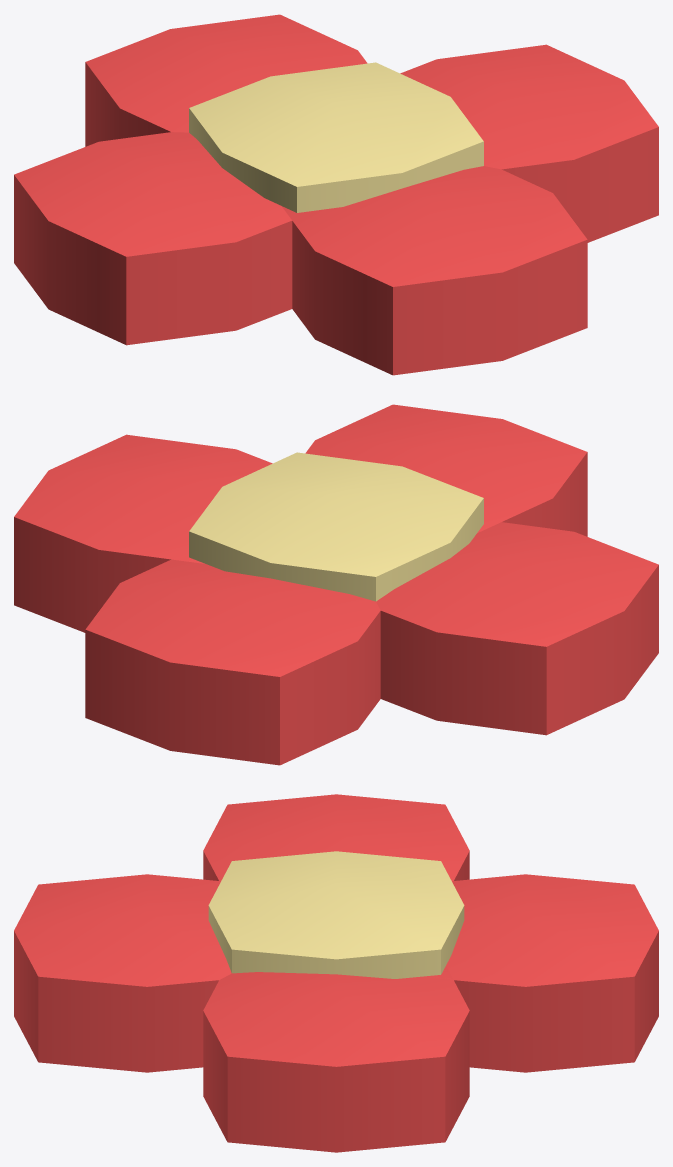
The model's file is Flower_B.fbx.
The picture shows the model from 3 angles, top to bottom: view 1: azimuth 30°, elevation 25°; view 2: azimuth 150°, elevation 25°; view 3: azimuth 270°, elevation 25°; orthographic projection. The views are drawn at different scales.
Parts seen in each view (by area): view 1: Flower_B; view 2: Flower_B; view 3: Flower_B.
Boxes of the visible parts, left/top/right/bottom form: Flower_B: left=14, top=14, right=658, bottom=375; Flower_B: left=14, top=404, right=658, bottom=765; Flower_B: left=14, top=794, right=658, bottom=1152.
Size of the model in its own units: 136 by 30.35 by 136.
